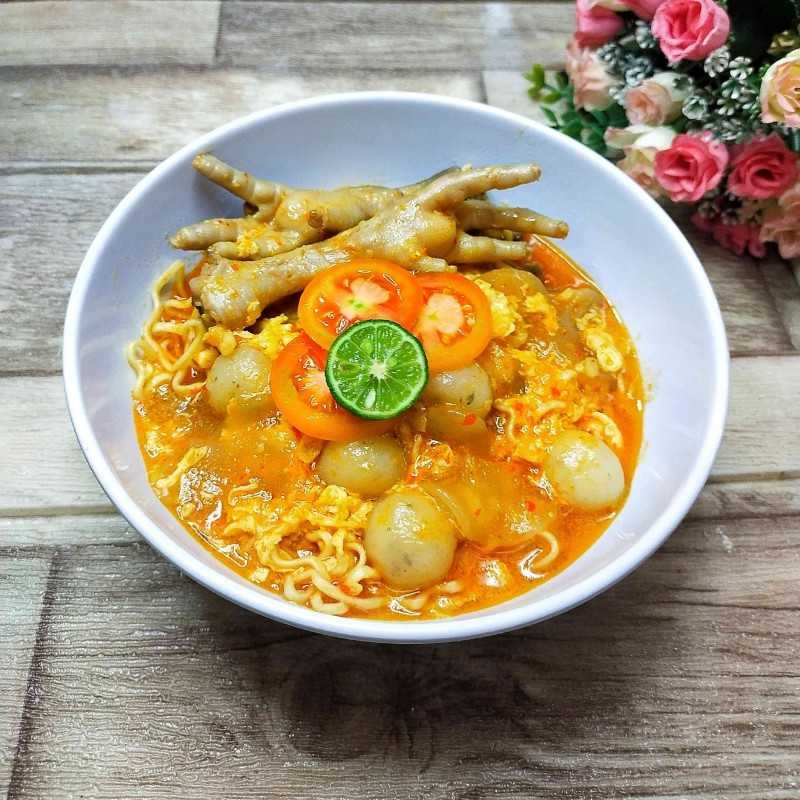seblak: (132, 157, 646, 622)
